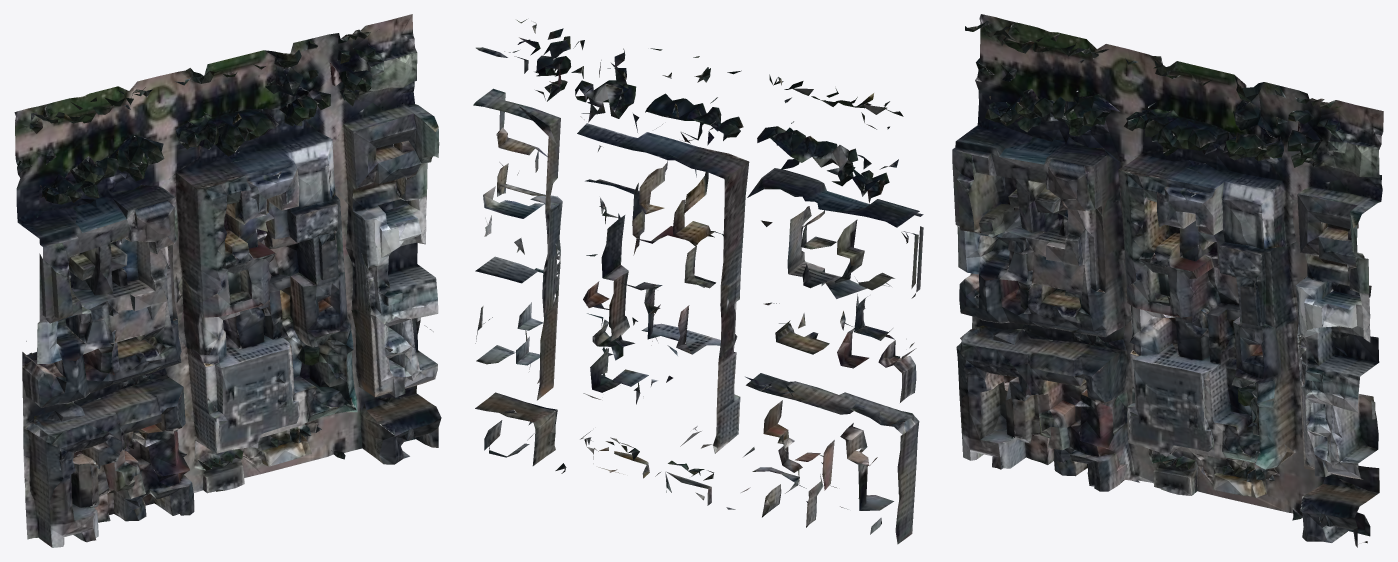
File: Tile_+035_+019_L16_000.glb
3 views of the same model, side by side, from view 1: azimuth 30°, elevation 25°; view 2: azimuth 150°, elevation 25°; view 3: azimuth 330°, elevation 25° (orthographic). The views are drawn at different scales.
Size of the model in its own units: 250 by 250 by 42.15.
1 material, 1 textured.
